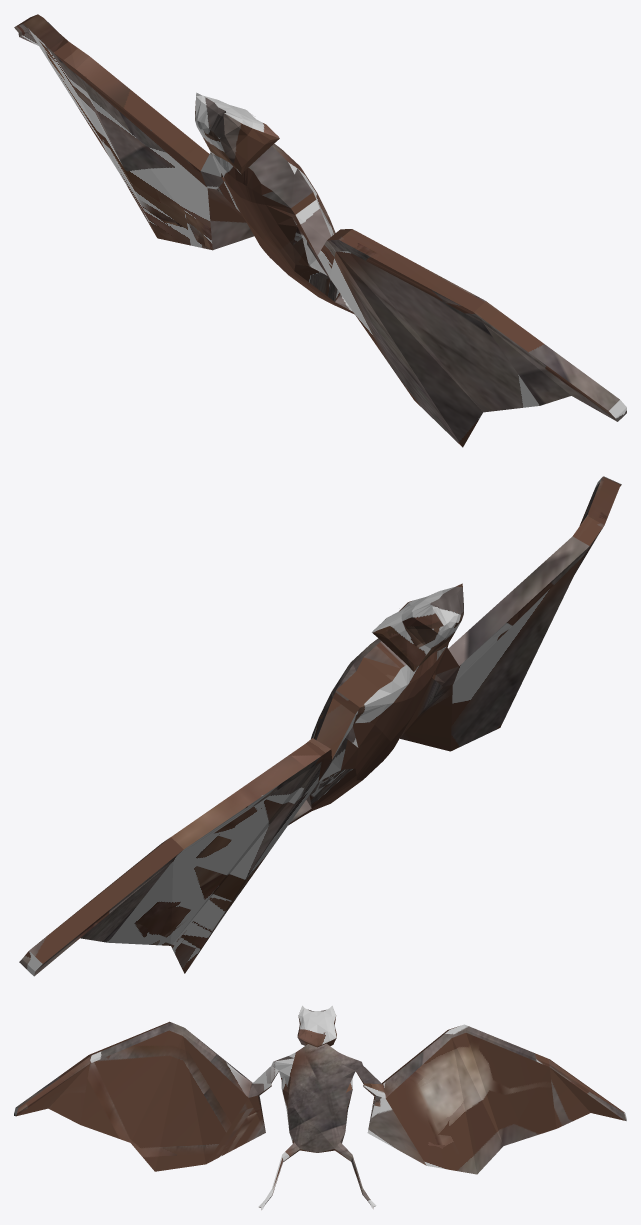
File: Enemigo116.obj
3 renders of one model, top to bottom at view 1: azimuth 30°, elevation 25°; view 2: azimuth 150°, elevation 25°; view 3: azimuth 270°, elevation 25°, orthographic. The views are drawn at different scales.
Parts seen in each view (by area): view 1: Plano; view 2: Plano; view 3: Plano.
Part boxes in pixels (left/top/right/bottom): Plano: left=14, top=14, right=626, bottom=447; Plano: left=19, top=476, right=621, bottom=976; Plano: left=14, top=1005, right=626, bottom=1209.
Bounding box in the file's own units: 0.5007 × 0.6016 × 2.2.
1 material, 1 textured.
